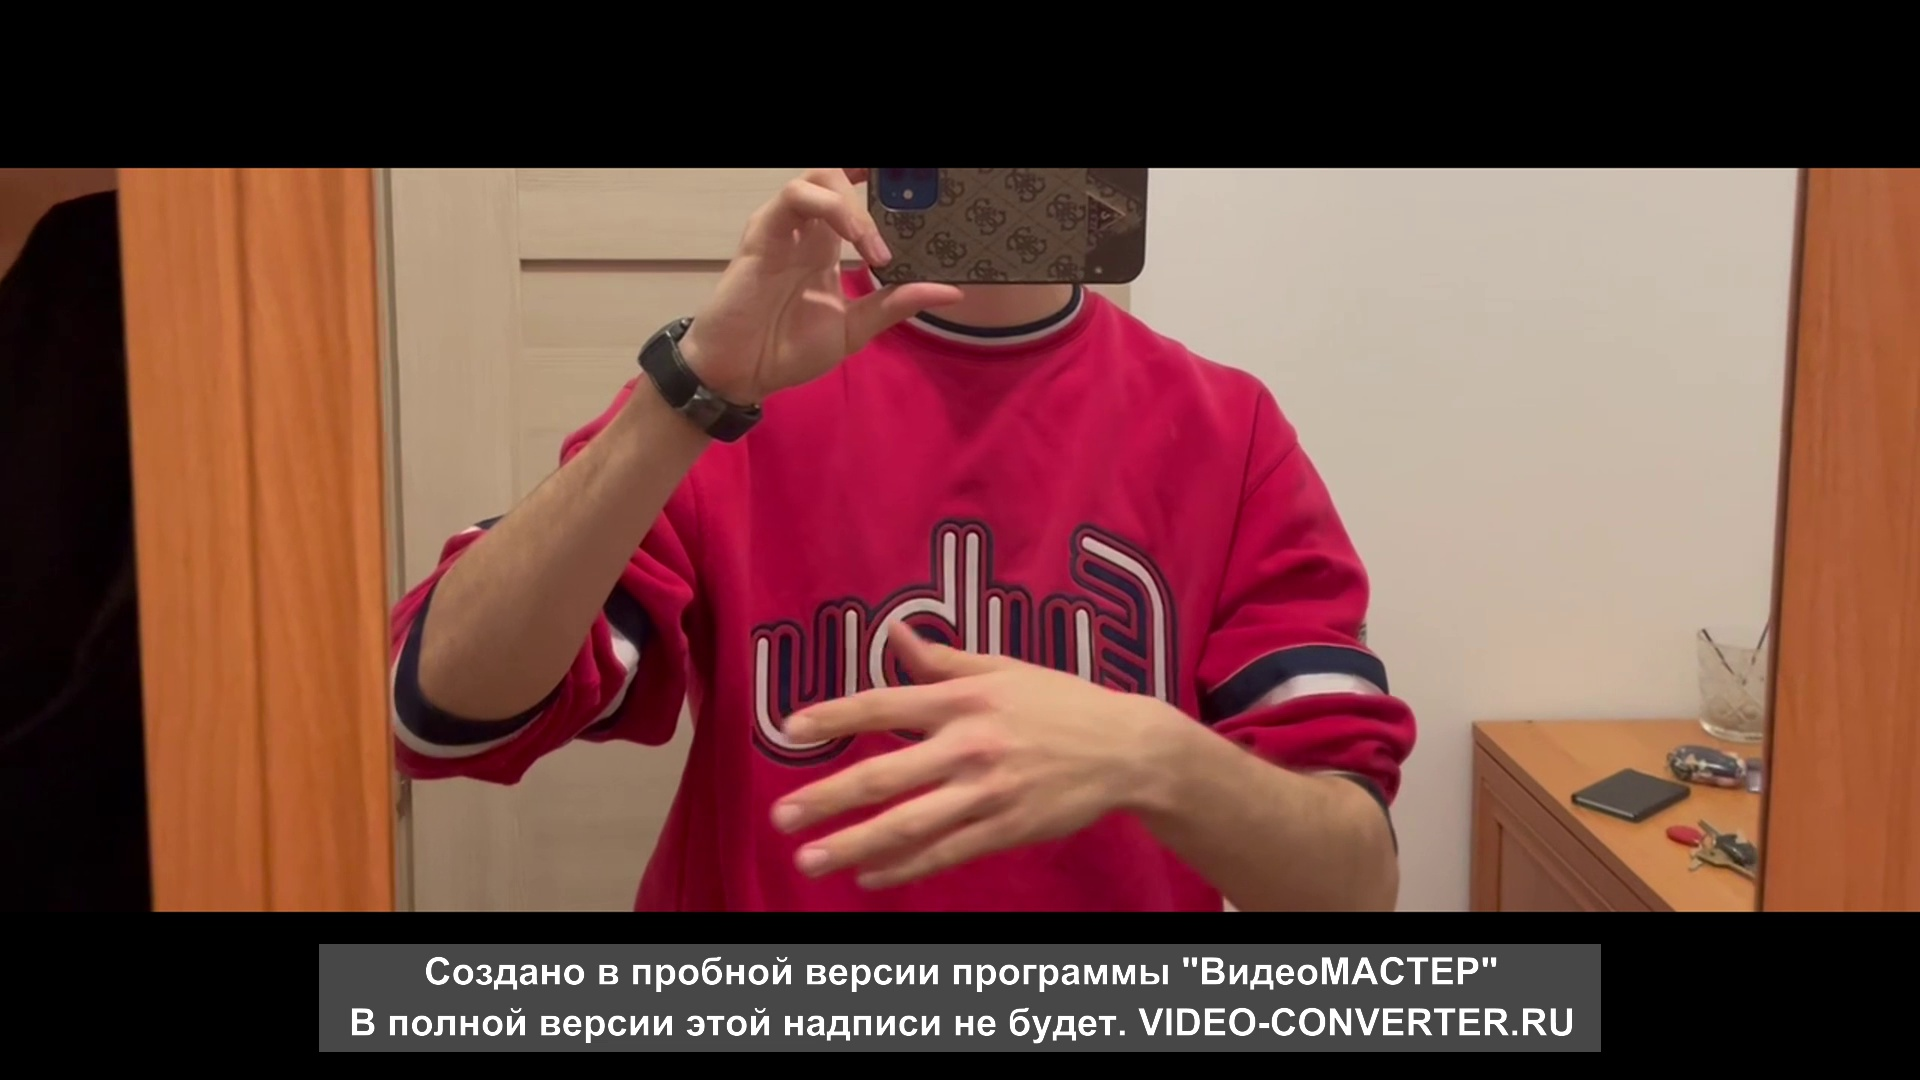Кисть: (770, 616, 1125, 884)
